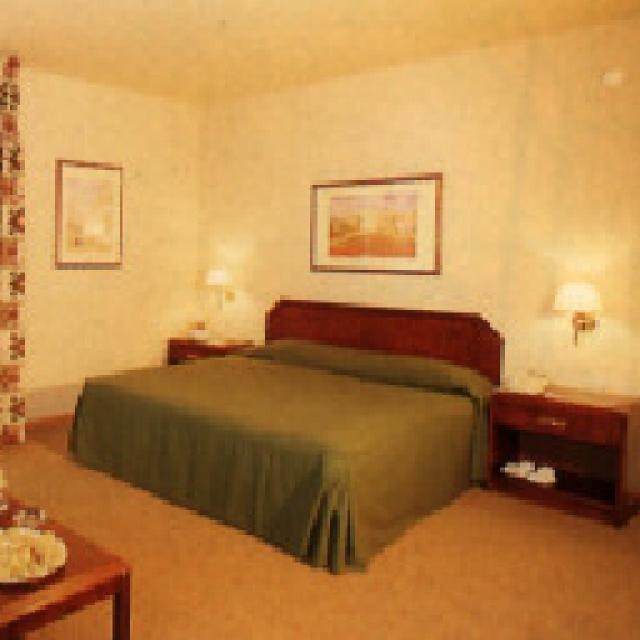bed -occluded-: (68, 298, 500, 570)
ceiling beam: (0, 0, 635, 105)
curtain crop: (0, 55, 22, 440)
lamp crop: (545, 278, 598, 350), (205, 268, 232, 302)
night stand: (488, 375, 635, 525), (165, 330, 252, 355)
painting crop: (302, 170, 440, 270), (48, 155, 122, 265)
table -X: (0, 485, 130, 635)
